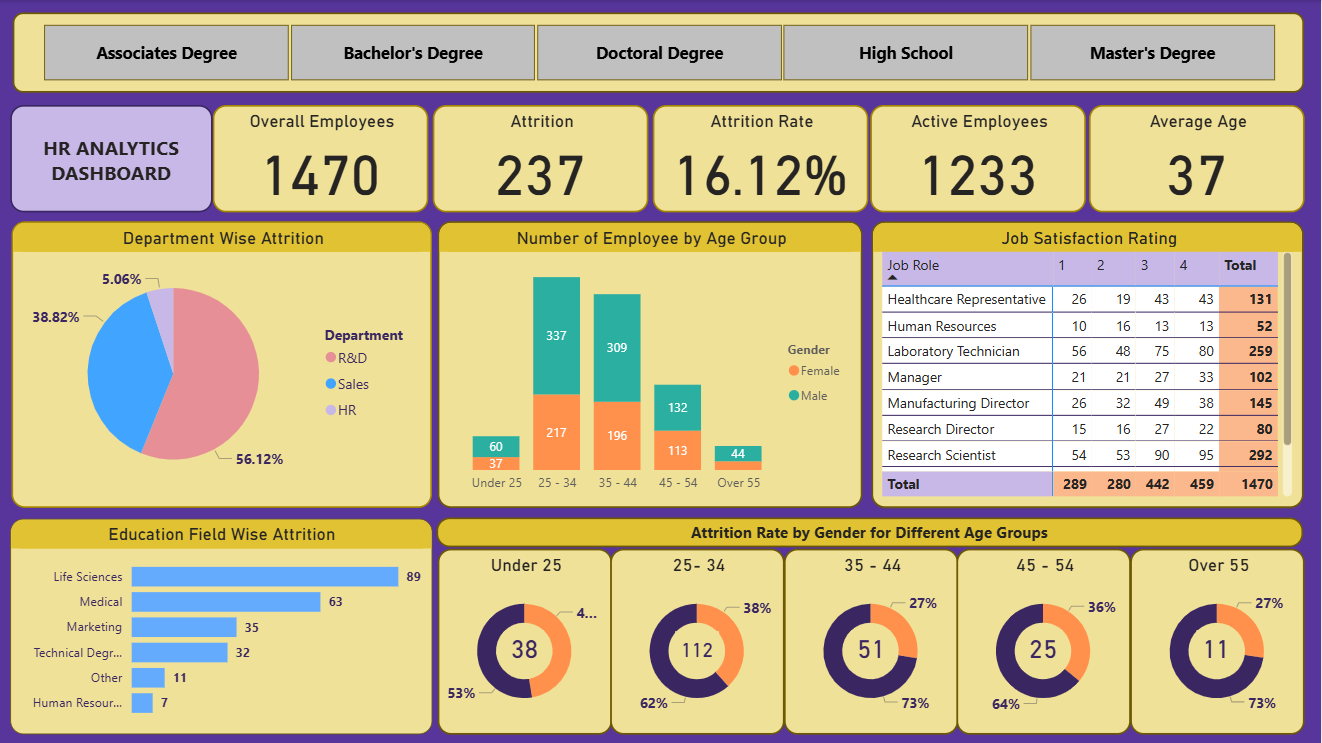

What the dashboard file says about the page in this screenshot:
{"tool":"powerbi","page":{"name":"Page 1","canvas":[1280,720],"ordinal":0},"visuals":[{"type":"card","title":"Overall Employees","fields":{"Values":["Sum(HR data.Employee Count)"]},"box":[207.5,101.2,208.8,103.8],"z":0},{"type":"card","title":"Attrition","fields":{"Values":["Sum(HR data.Attrition Count)"]},"box":[420,101.2,208.8,103.8],"z":1000},{"type":"card","title":"Attrition Rate","fields":{"Values":["HR data.Attrition Rate"]},"box":[632.5,101.2,208.8,103.8],"z":2000},{"type":"card","title":"Active Employees","fields":{"Values":["HR data.Active Employees"]},"box":[843.8,101.2,208.8,103.8],"z":3000},{"type":"card","title":"Average Age","fields":{"Values":["Avg(HR data.Age)"]},"box":[1055,101.2,208.8,103.8],"z":4000},{"type":"pieChart","title":"Department Wise Attrition","fields":{"Category":["HR data.Department"],"Y":["Sum(HR data.Attrition Count)"]},"box":[12.5,213.8,407.5,277.5],"z":5000},{"type":"columnChart","title":"Number of Employee by Age Group","fields":{"Category":["HR data.CF_age band"],"Series":["HR data.Gender"],"Y":["Sum(HR data.Employee Count)"]},"box":[425,213.8,411.2,277.5],"z":6000},{"type":"pivotTable","title":"Job Satisfaction Rating","fields":{"Rows":["HR data.Job Role"],"Columns":["HR data.Job Satisfaction"],"Values":["Sum(HR data.Employee Count)"]},"box":[845,213.8,418.8,277.5],"z":7000},{"type":"clusteredBarChart","title":"Education Field Wise Attrition","fields":{"Category":["HR data.Education Field"],"Y":["Sum(HR data.Attrition Count)"]},"box":[11.2,502.5,408.8,208.8],"z":8000},{"type":"donutChart","title":"Under 25","fields":{"Category":["HR data.Gender"],"Y":["Sum(HR data.Attrition Count)"],"Series":["HR data.CF_age band"]},"box":[425,531.2,168.8,180],"z":9000},{"type":"textbox","box":[423.7,501.6,838.9,28.4],"z":10000},{"type":"donutChart","title":"25- 34","fields":{"Category":["HR data.Gender"],"Y":["Sum(HR data.Attrition Count)"],"Series":["HR data.CF_age band"]},"box":[592.5,531.2,168.8,180],"z":11000},{"type":"donutChart","title":"35 - 44","fields":{"Category":["HR data.Gender"],"Y":["Sum(HR data.Attrition Count)"],"Series":["HR data.CF_age band"]},"box":[760,531.2,168.8,180],"z":12000},{"type":"donutChart","title":"Over 55","fields":{"Category":["HR data.Gender"],"Y":["Sum(HR data.Attrition Count)"],"Series":["HR data.CF_age band"]},"box":[1095,531.2,168.8,180],"z":13000},{"type":"donutChart","title":"45 - 54","fields":{"Category":["HR data.Gender"],"Y":["Sum(HR data.Attrition Count)"],"Series":["HR data.CF_age band"]},"box":[927.5,531.2,168.8,180],"z":14000},{"type":"card","fields":{"Values":["Sum(HR data.Attrition Count)"]},"box":[490,609.6,37.5,36.2],"z":15000},{"type":"card","fields":{"Values":["Sum(HR data.Attrition Count)"]},"box":[655,611.2,42.5,36.2],"z":16000},{"type":"card","fields":{"Values":["Sum(HR data.Attrition Count)"]},"box":[825,610,37.5,36.2],"z":17000},{"type":"card","fields":{"Values":["Sum(HR data.Attrition Count)"]},"box":[992.5,610,37.5,36.2],"z":18000},{"type":"card","fields":{"Values":["Sum(HR data.Attrition Count)"]},"box":[1160,610,37.5,36.2],"z":19000},{"type":"textbox","box":[11.2,101.2,196.2,103.8],"z":20000},{"type":"slicer","fields":{"Values":["HR data.Education"]},"box":[13,11.7,1250.6,77.9],"z":21000}]}

Visuals, with their boxes in screenshot pixels (x1, y1, x2, y2), scaled from the page's 1280x720 canvas onto the 1322x743 screenshot:
"Overall Employees" card: 214/104/430/212
"Attrition" card: 434/104/649/212
"Attrition Rate" card: 653/104/869/212
"Active Employees" card: 871/104/1087/212
"Average Age" card: 1090/104/1305/212
"Department Wise Attrition" pieChart: 13/221/434/507
"Number of Employee by Age Group" columnChart: 439/221/864/507
"Job Satisfaction Rating" pivotTable: 873/221/1305/507
"Education Field Wise Attrition" clusteredBarChart: 12/519/434/734
"Under 25" donutChart: 439/548/613/734
textbox: 438/518/1304/547
"25- 34" donutChart: 612/548/786/734
"35 - 44" donutChart: 785/548/959/734
"Over 55" donutChart: 1131/548/1305/734
"45 - 54" donutChart: 958/548/1132/734
card - Sum(HR data.Attrition Count): 506/629/545/666
card - Sum(HR data.Attrition Count): 676/631/720/668
card - Sum(HR data.Attrition Count): 852/629/891/667
card - Sum(HR data.Attrition Count): 1025/629/1064/667
card - Sum(HR data.Attrition Count): 1198/629/1237/667
textbox: 12/104/214/212
slicer - HR data.Education: 13/12/1305/92
